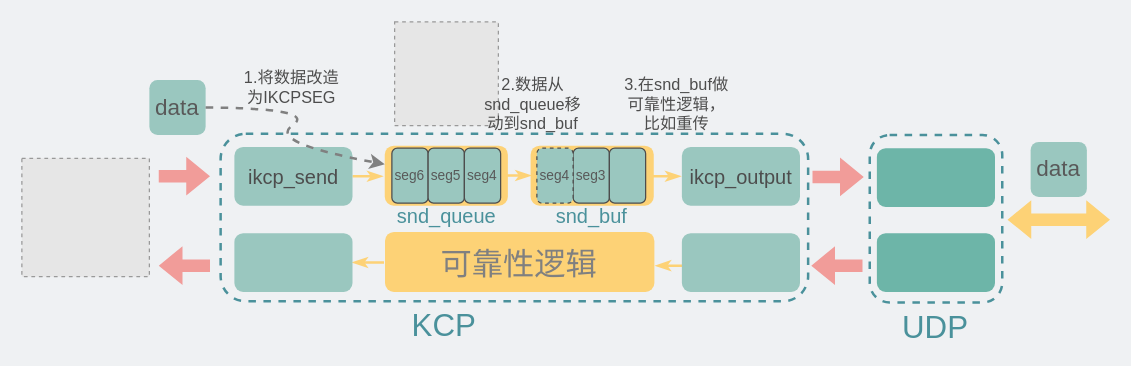
The diagram is 1131 pixels wide and 366 high, and some of its shapes have lost their labels. Grey dashed boxes stand in for pictures. The shapes that lost their labels are listed below. From the top down, each one's centre as x and y in pixels, then its label:
At [627,175]: "seg2".
At [935,177]: "sendto".
At [293,261]: "ikcp_recv".
At [740,261]: "ikcp_input".
At [935,261]: "recvfrom".
